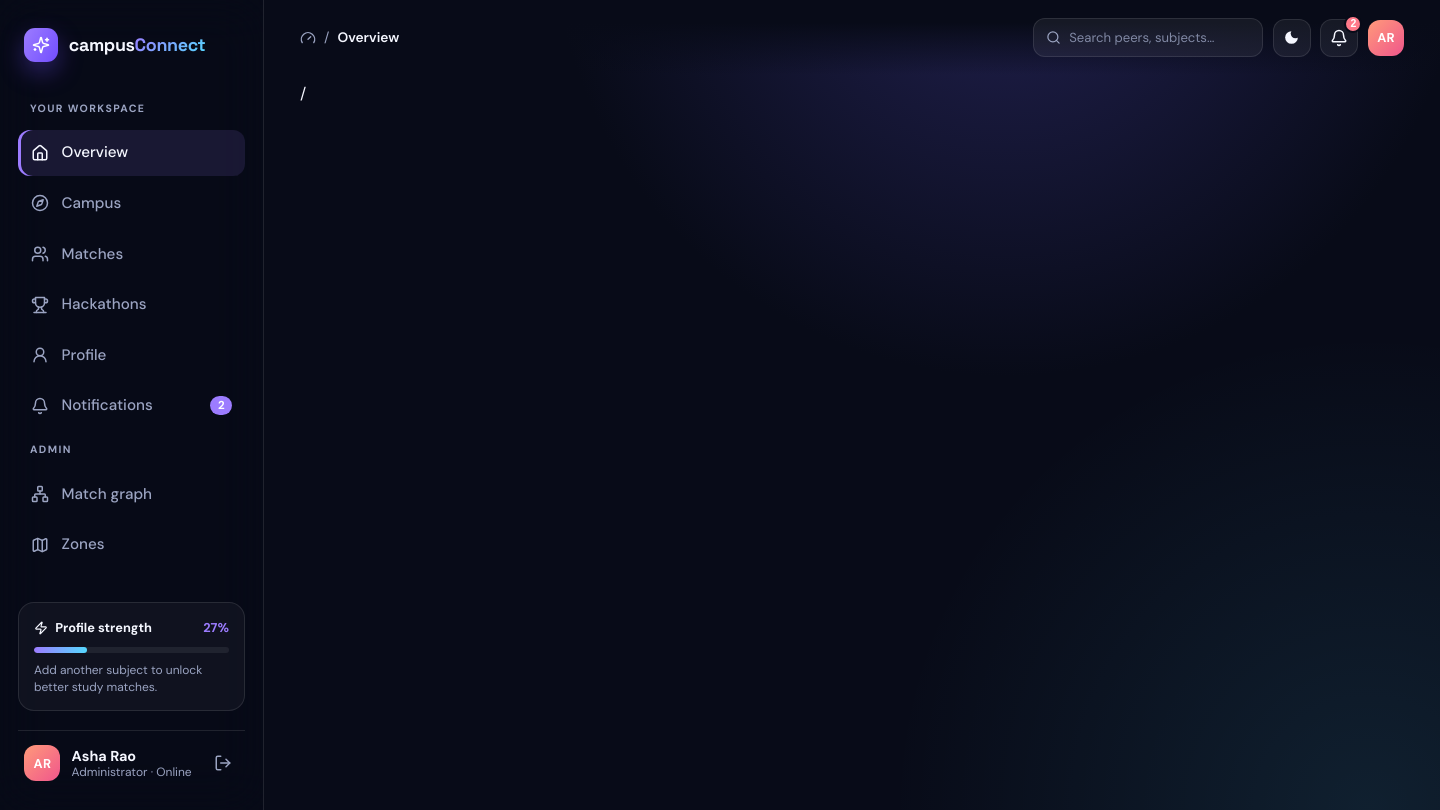
Test: Layout › searches campus for peers and subjects
Type "DBMS" into the search field labelled "Search peers, subjects…" at [1160, 38], box [1069,28,1250,48]
Then press Enter
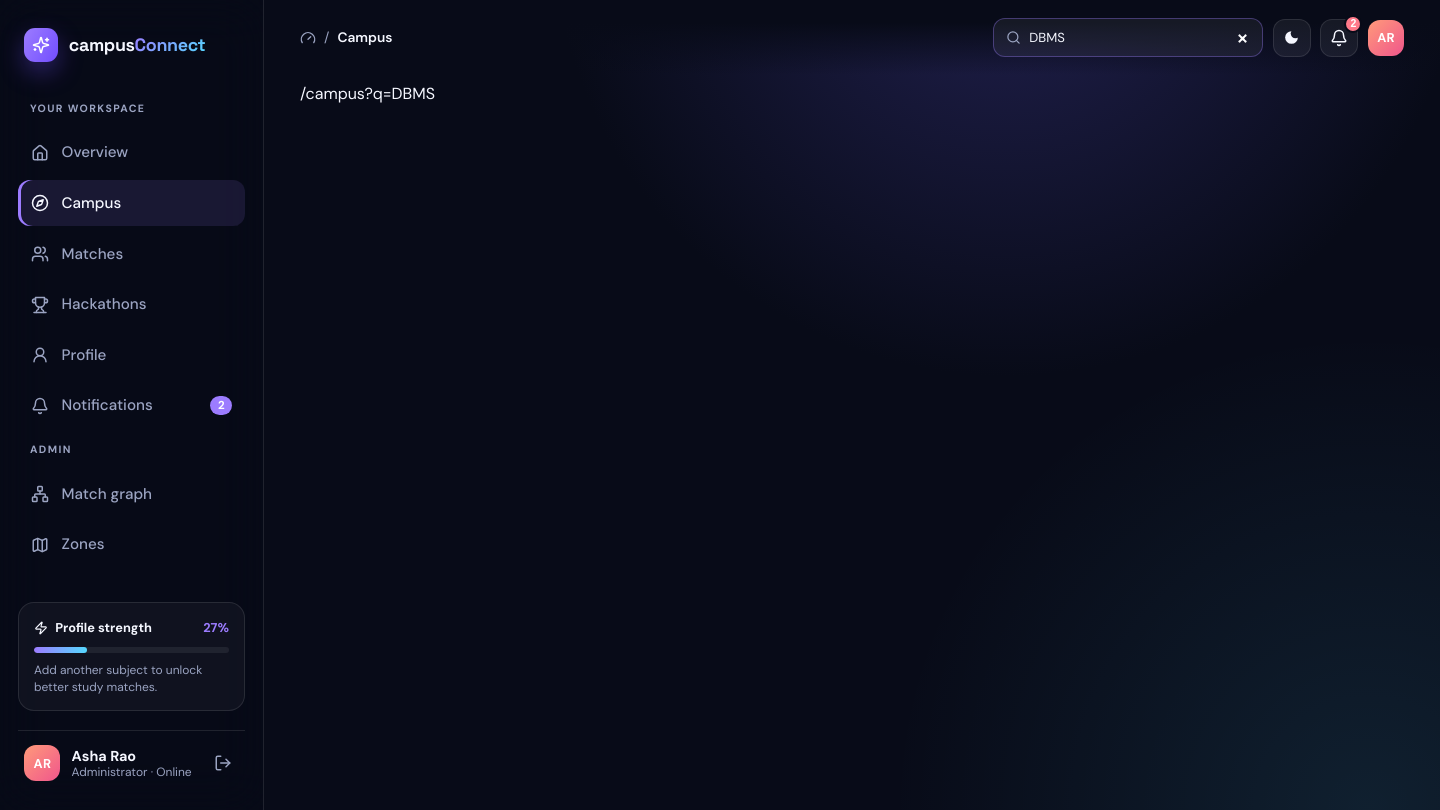
Expected: the text with test id "where" reads "/campus?q=DBMS", [300,83,435,104]
